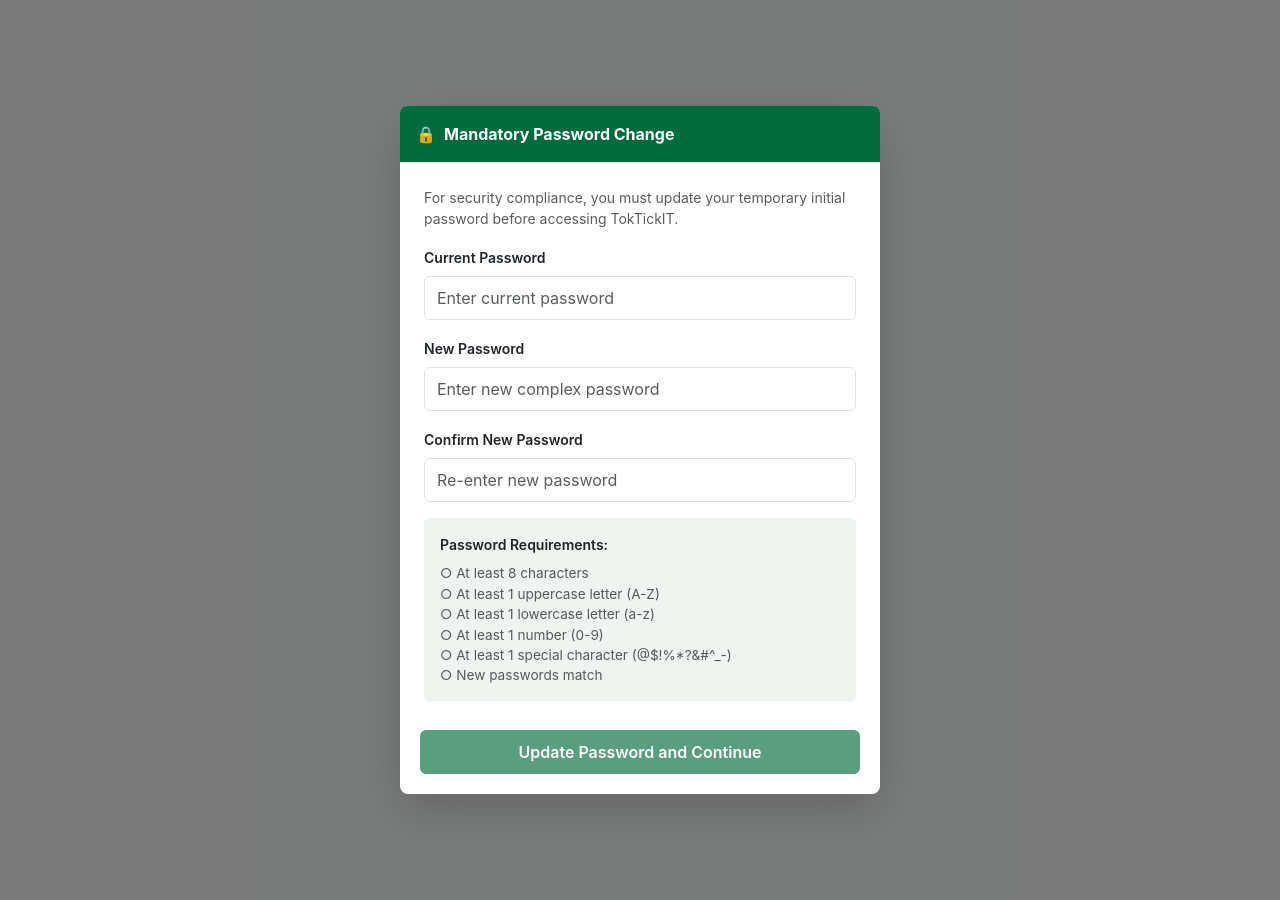
Scenario: ChangePasswordModal Component (UI-02 / AC-04, AC-05) › UI-02 / AC-05: updates checklist dynamically and enables submit when password satisfies complexity
In the password field with test id "current-password-input": (640, 298) [424,276,856,320], type "Password@2026"
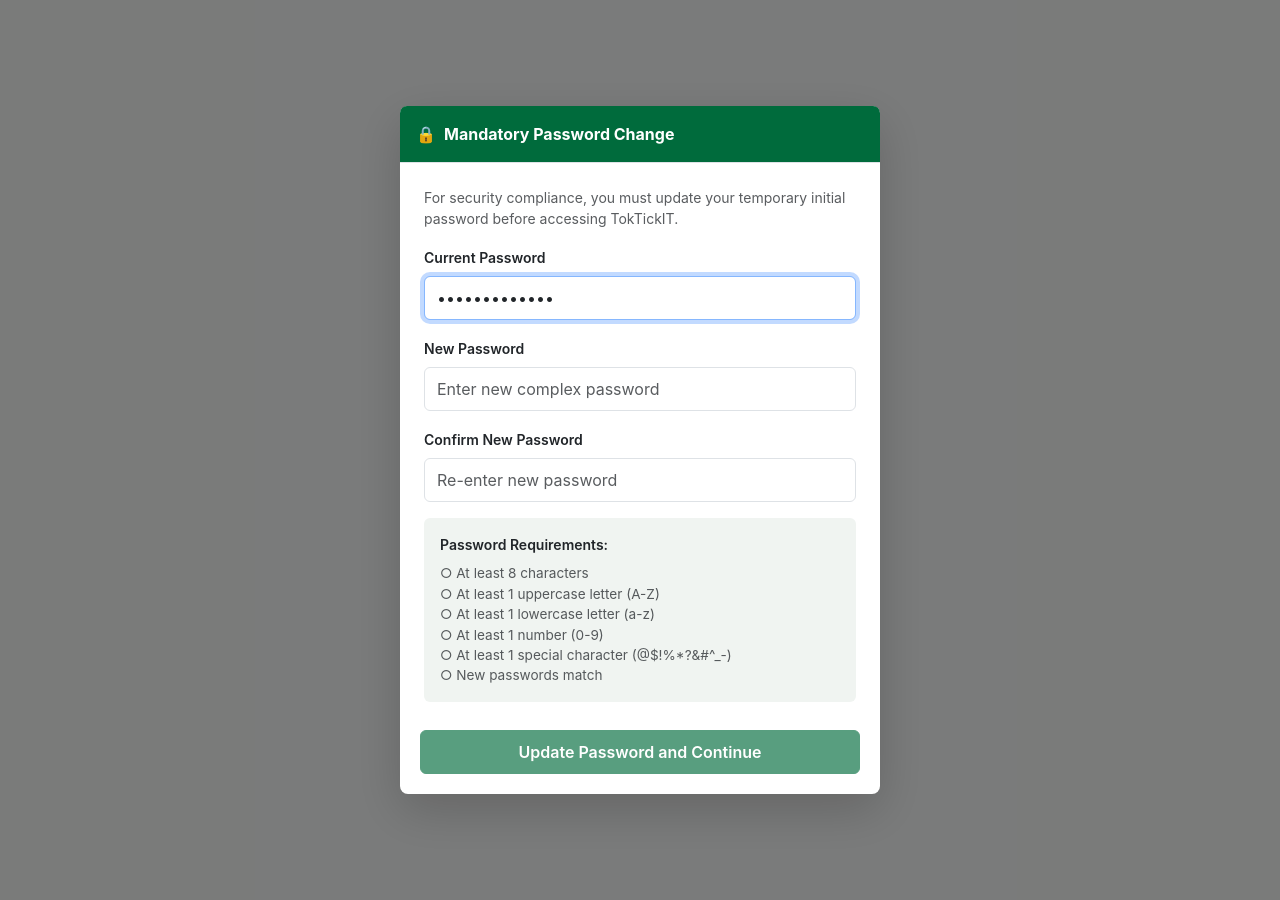
In the password field with test id "new-password-input": (640, 389) [424,367,856,411], type "ValidPass#2026"
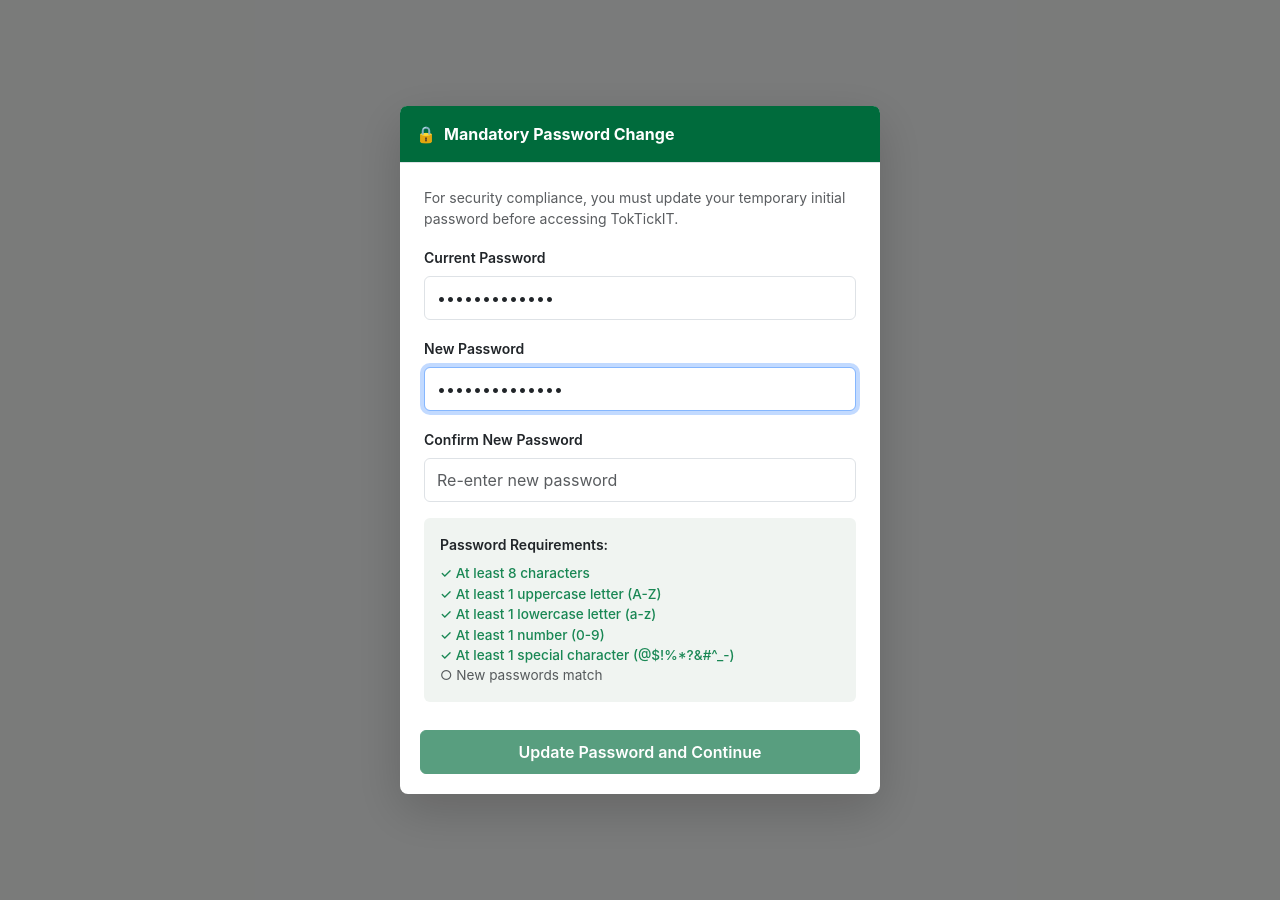
In the password field with test id "confirm-password-input": (640, 480) [424,458,856,502], type "ValidPass#2026"
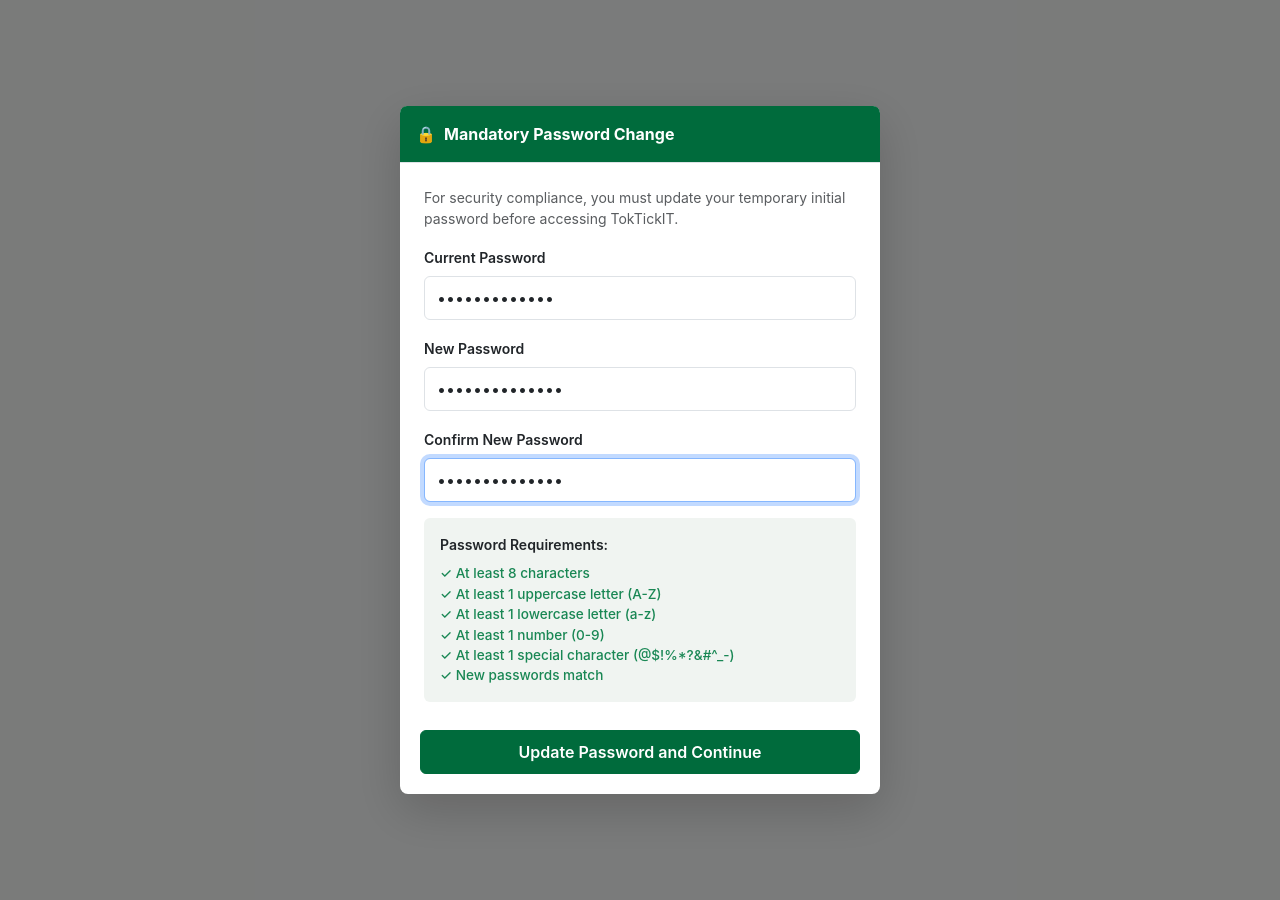
Expected: the button with test id "update-password-button" is enabled, [420,730,860,774]
